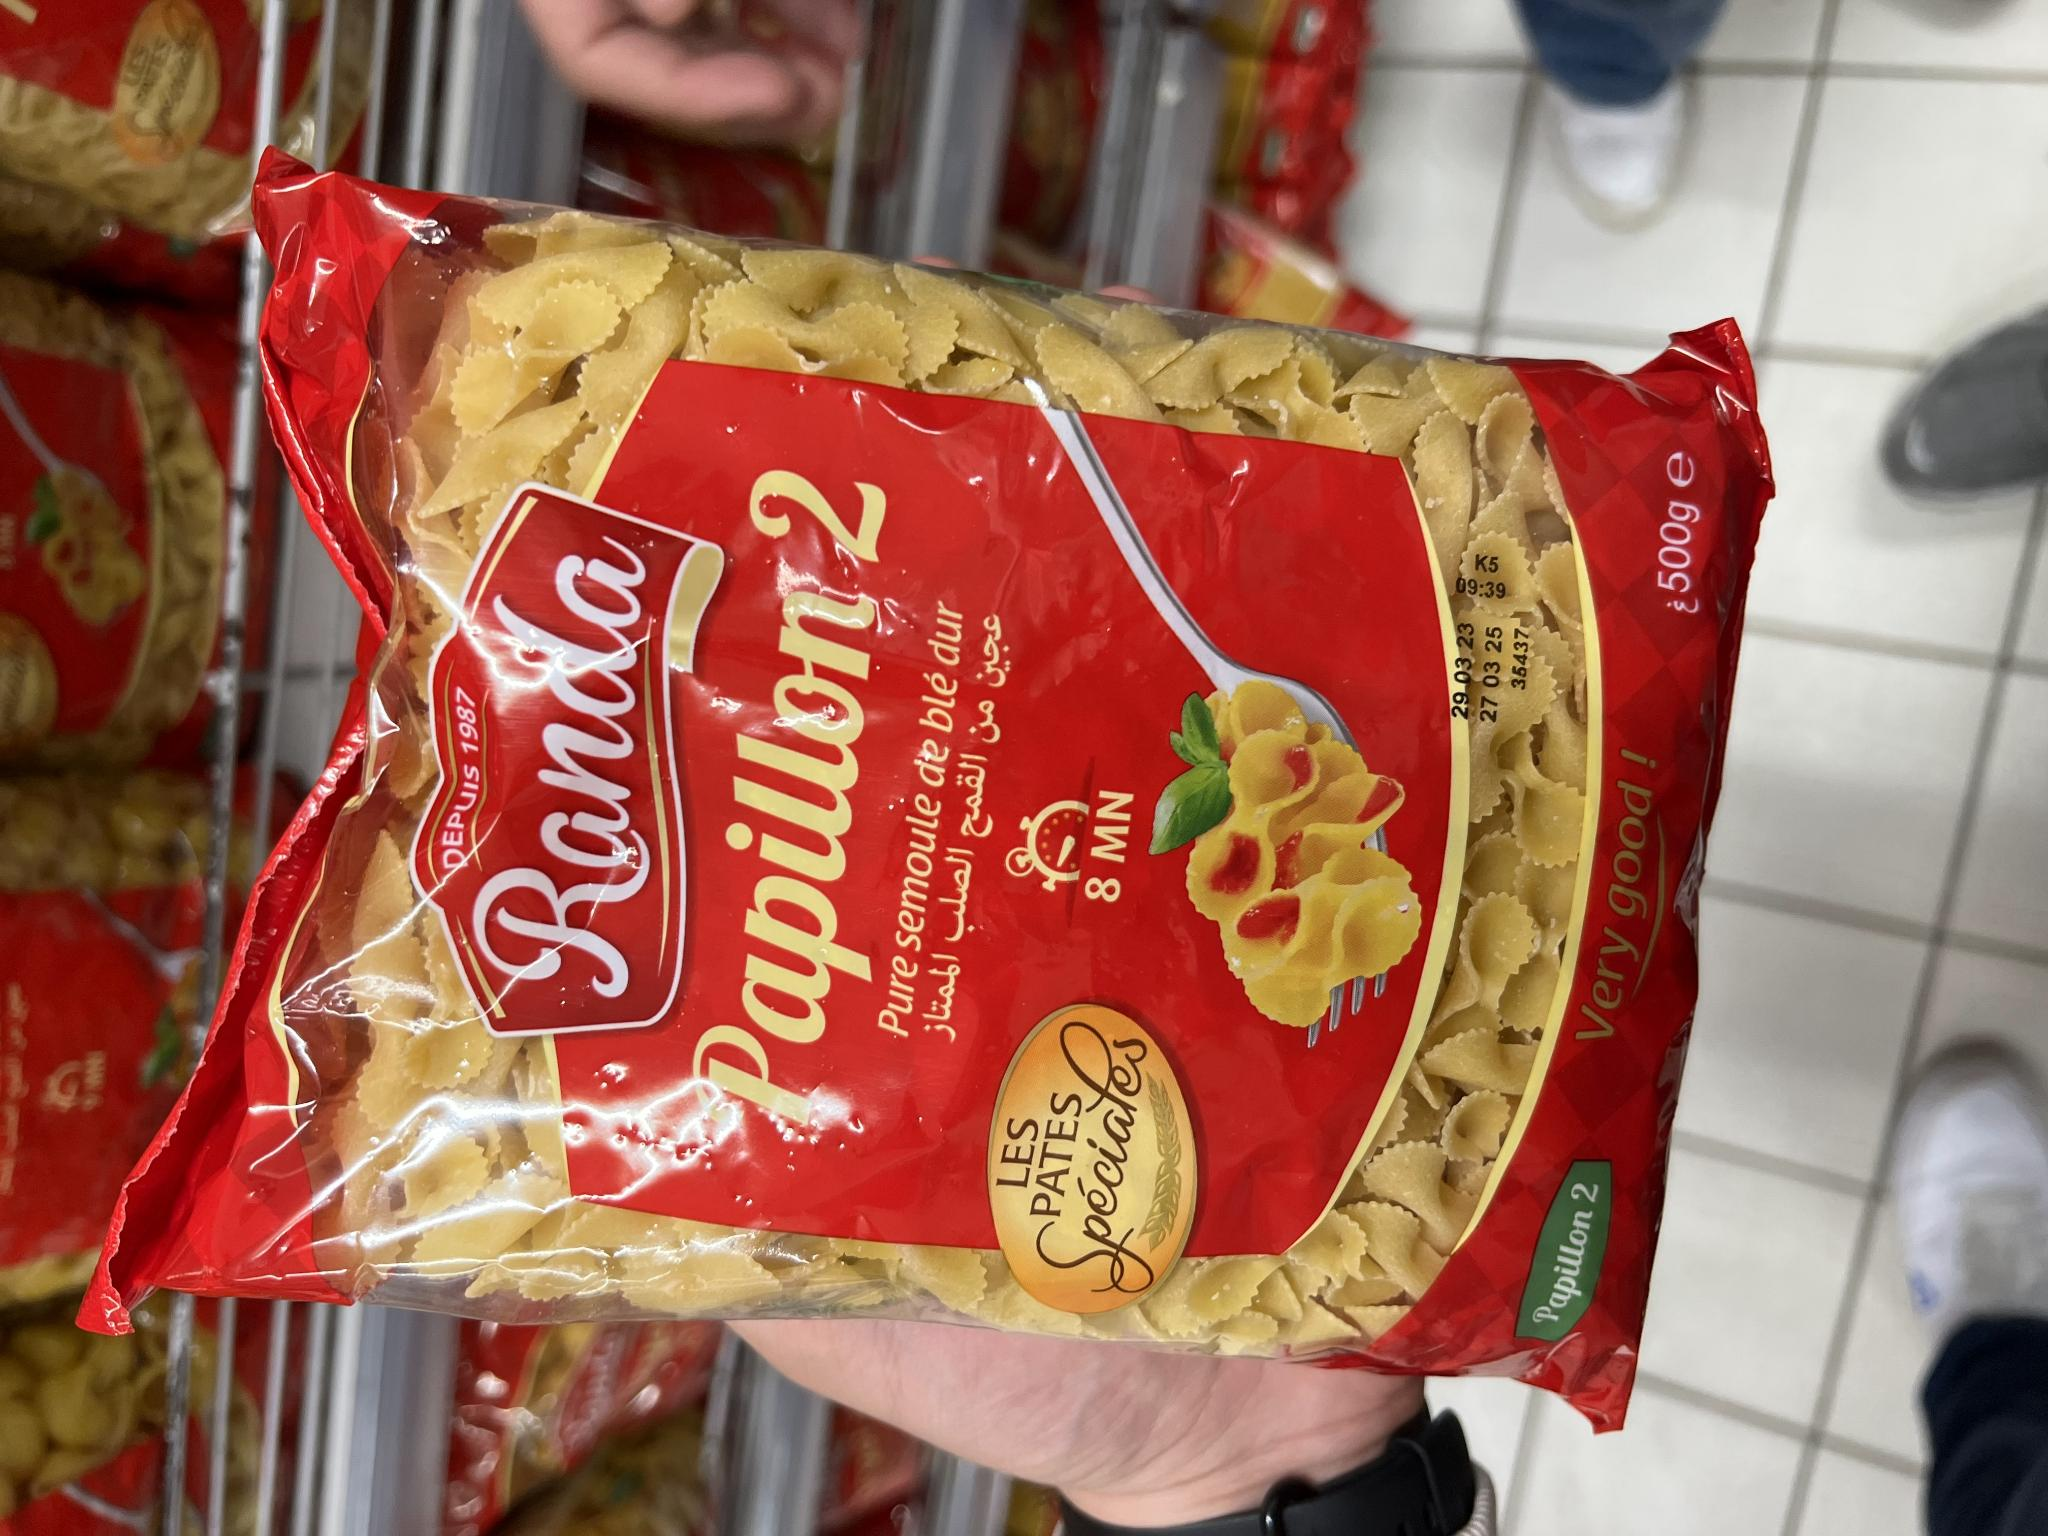Papillon: (81, 145, 1771, 1430)
